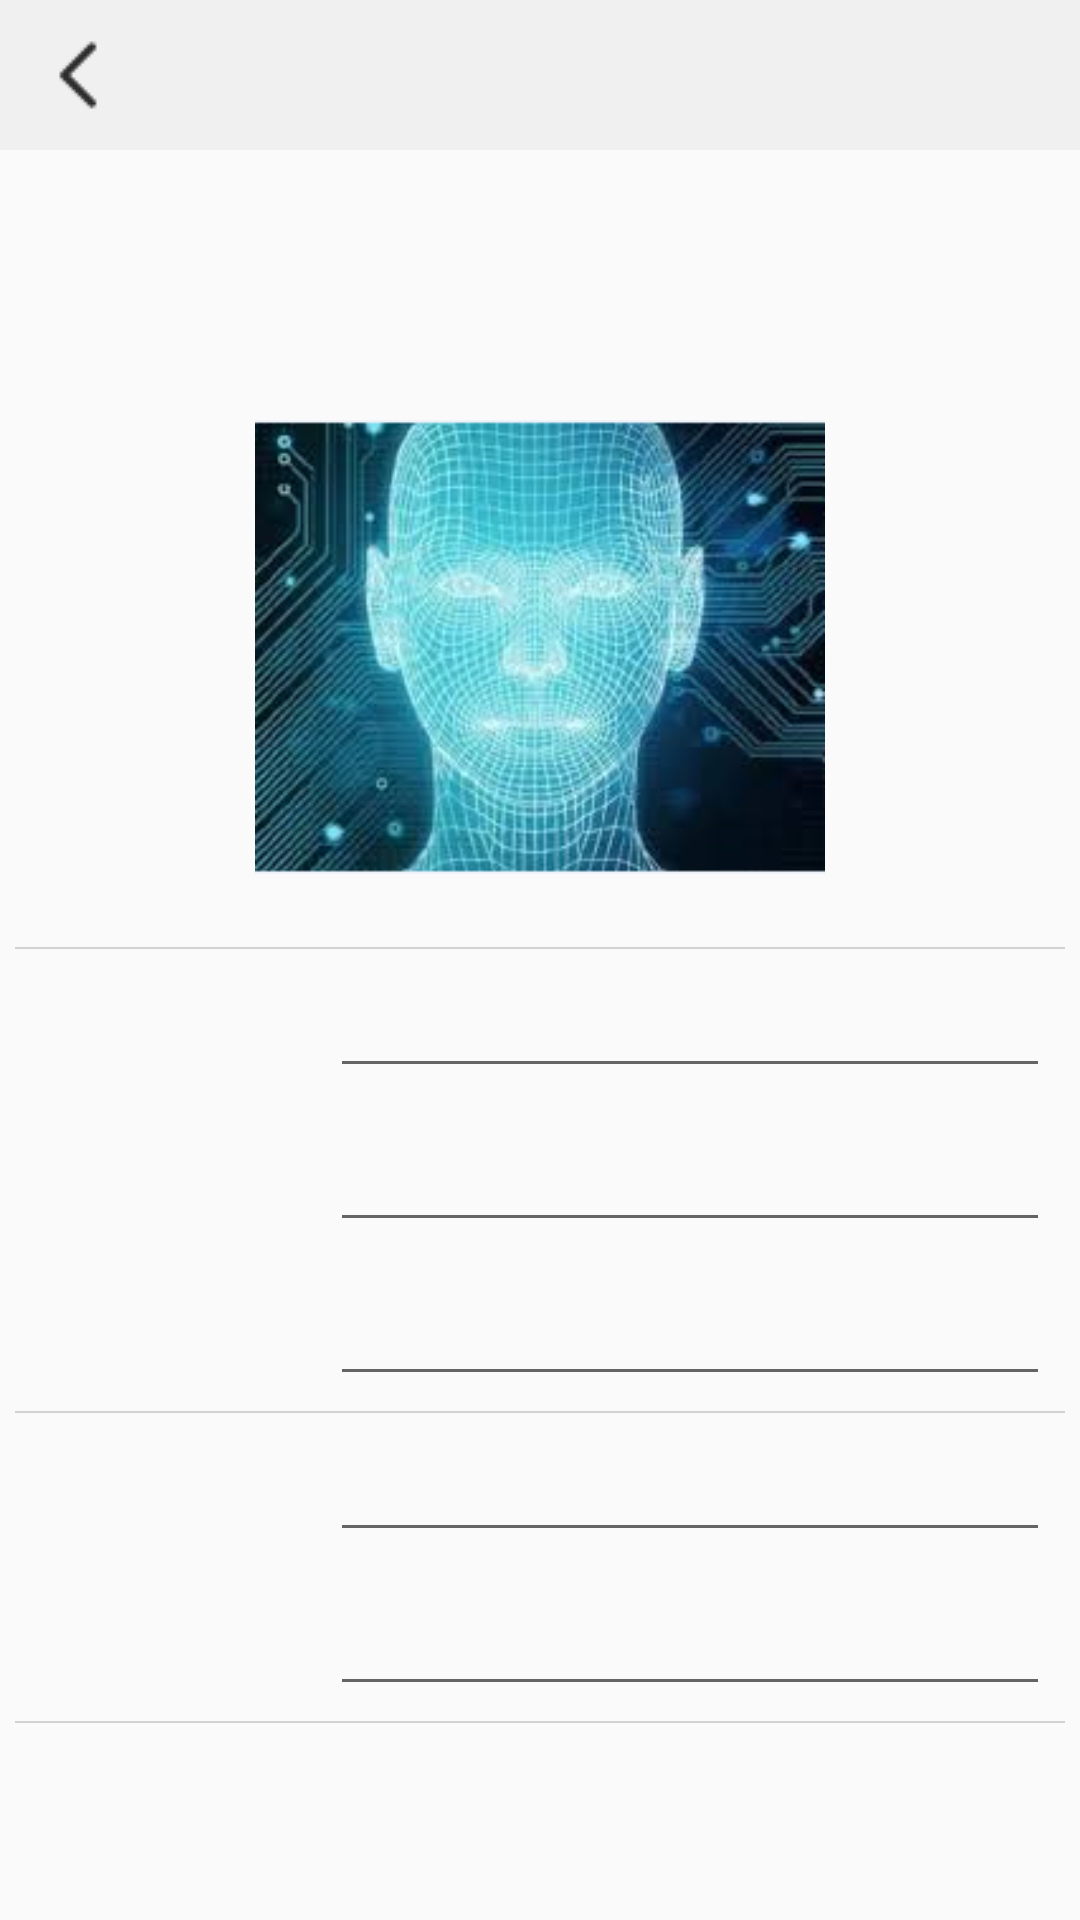

Icons on this 1080w x 1920h Android screen, each with its box as (x1, y1, x2, y2):
back: (59, 41, 97, 109)
